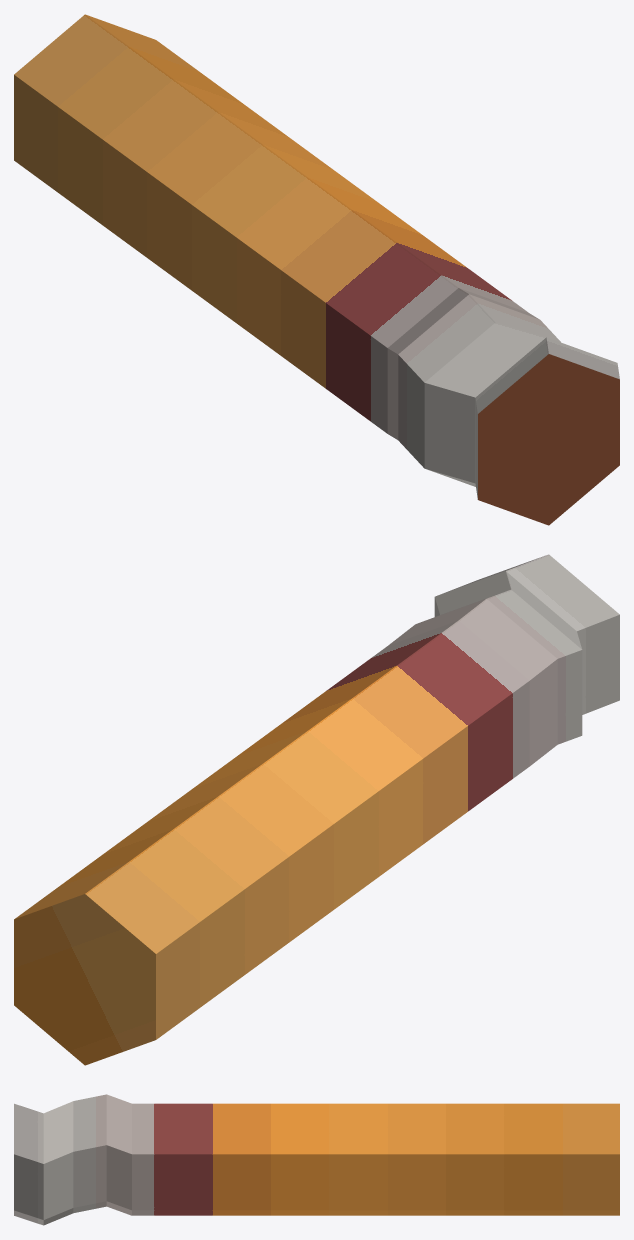
The model's file is Cigarette5.fbx.
The picture shows the model from 3 angles, top to bottom: view 1: azimuth 30°, elevation 25°; view 2: azimuth 150°, elevation 25°; view 3: azimuth 270°, elevation 25°; orthographic projection. The views are drawn at different scales.
Visible parts, largest first — view 1: Cigarette5; view 2: Cigarette5; view 3: Cigarette5.
Part boxes in pixels (<box>): Cigarette5: <box>14,14,619,525</box>; Cigarette5: <box>14,554,619,1065</box>; Cigarette5: <box>14,1094,619,1225</box>.
Size of the model in its own units: 0.00671 by 0.00699 by 0.0315.
1 material, 1 textured.
